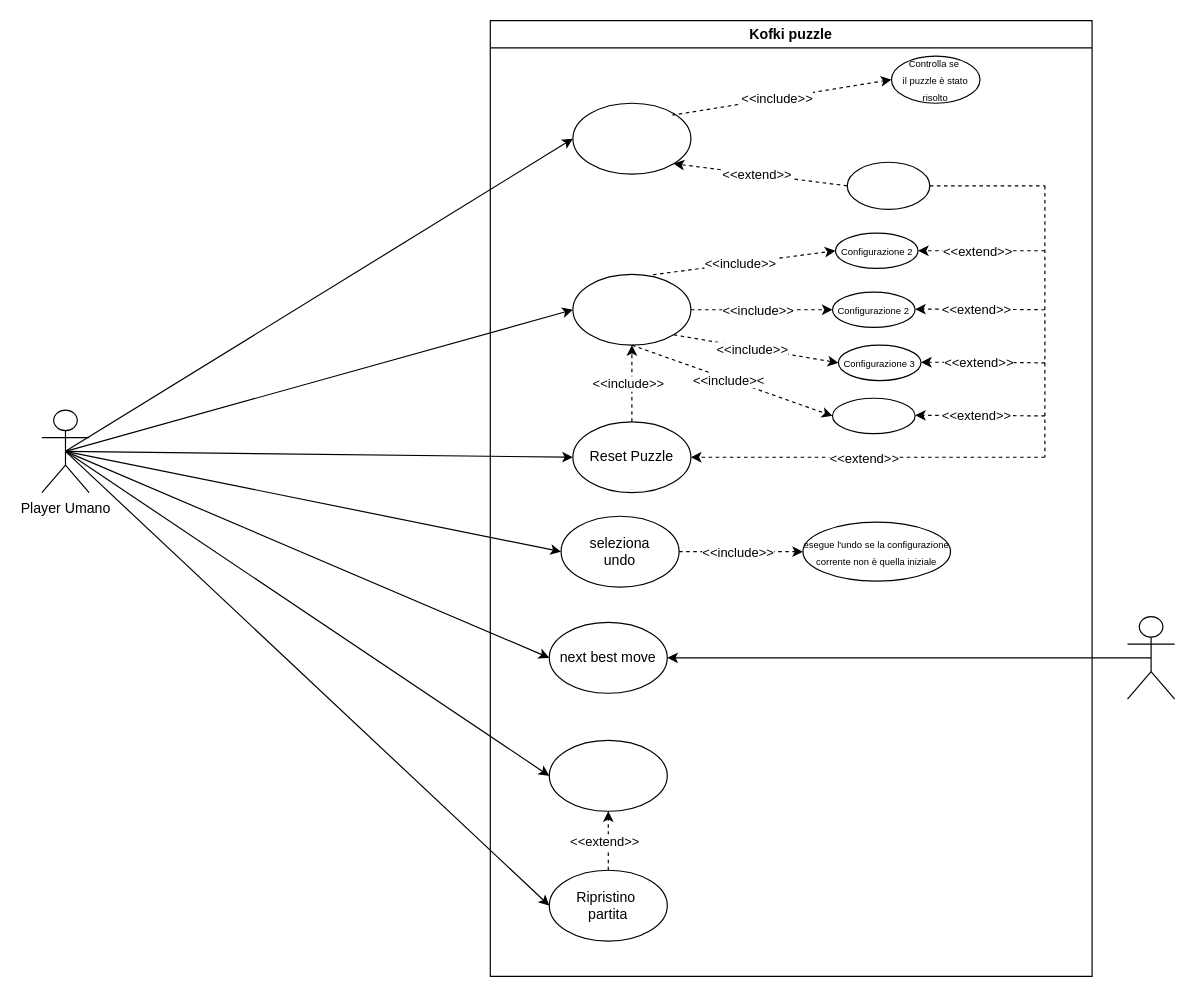
The diagram is 1195 pixels wide and 997 high, and some of its shapes have lost their labels. Each missing label, with the centre of its shape:
Configurazione 4: pixel 873 415
Counter delle mosse effettuate: pixel 888 185
Muovi blocco: pixel 631 138
Salvataggio stato corrente: pixel 607 775
Scelta della configurazione: pixel 631 309
Solver: pixel 1150 657
